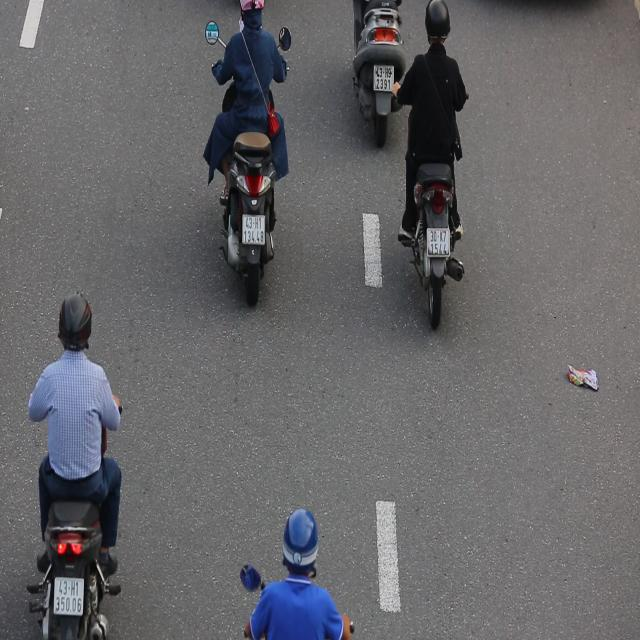motorbike: (21, 290, 132, 640), (395, 0, 480, 336)
